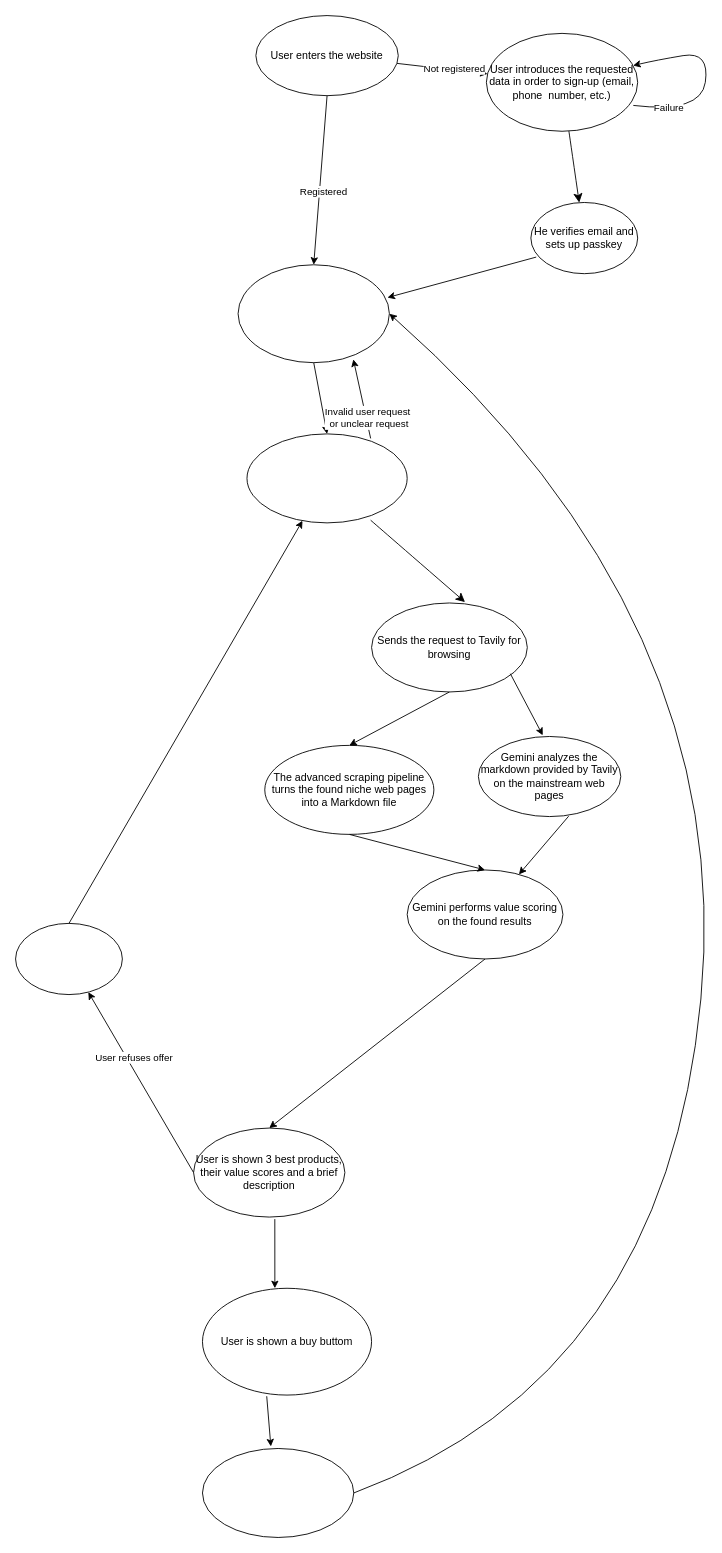
The diagram is 722 pixels wide and 1553 high, and some of its shapes have lost their labels. Each missing label, with the box of its shape:
OpenAI analyzes the request: (246, 433, 407, 523)
User enters feedback: (15, 922, 122, 995)
User enters the request (text/image): (237, 264, 389, 363)
User is not satisfied about the results: (202, 1448, 354, 1537)
